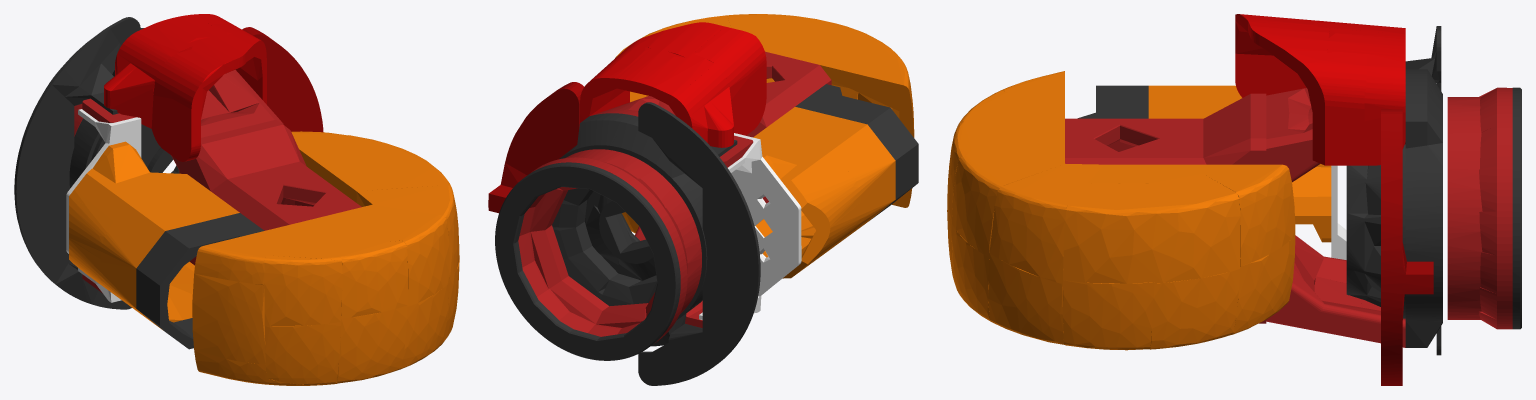
File: RARM_LINK4_mesh.dae
The picture shows the model from 3 angles, left to right: view 1: azimuth 30°, elevation 25°; view 2: azimuth 150°, elevation 25°; view 3: azimuth 270°, elevation 25°; orthographic projection. The views are drawn at different scales.
Parts seen in each view (by area): view 1: RARM_LINK4 (×12); view 2: RARM_LINK4 (×13); view 3: RARM_LINK4 (×13).
Boxes of the visible parts, x1,y1,x2,y2 form: RARM_LINK4 (×12): [14, 14, 459, 385]; RARM_LINK4 (×13): [488, 14, 918, 385]; RARM_LINK4 (×13): [947, 14, 1521, 385].
Bounding box in the file's own units: 0.121 × 0.121 × 0.1855.
